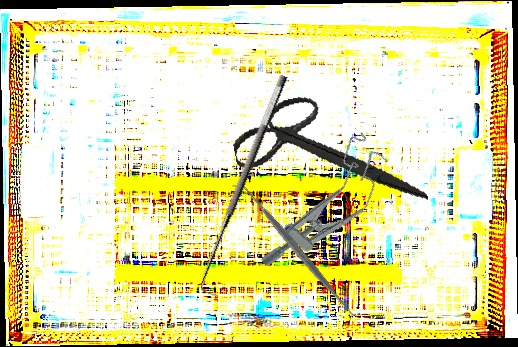Hook Surgical: (191, 73, 305, 298)
Iris Scissors: (226, 76, 429, 235)
Spatula Surgical: (230, 173, 364, 327)
Speculum: (251, 129, 402, 290)
